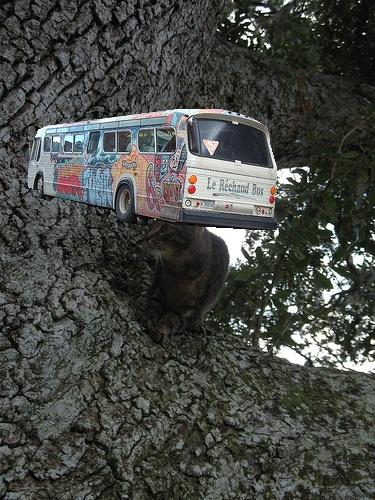tampered: (25, 110, 277, 230)
